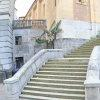stairs: (19, 58, 90, 100), (65, 36, 100, 57)
